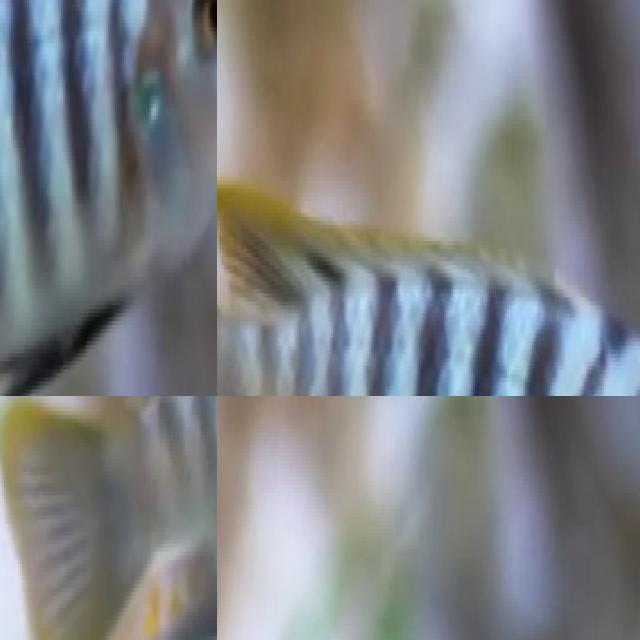fish: (217, 164, 640, 396), (0, 0, 217, 396)
